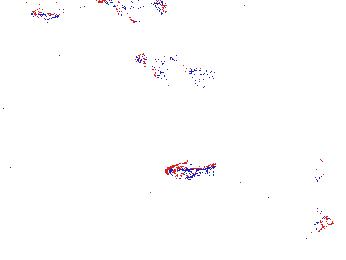X-ray fish: (43, 160, 96, 185), (302, 202, 336, 230), (313, 150, 331, 183)
red belly glassfish: (165, 160, 220, 181), (30, 5, 64, 25), (54, 1, 94, 14)
redtail glassfish: (134, 52, 206, 87), (97, 1, 166, 21)
